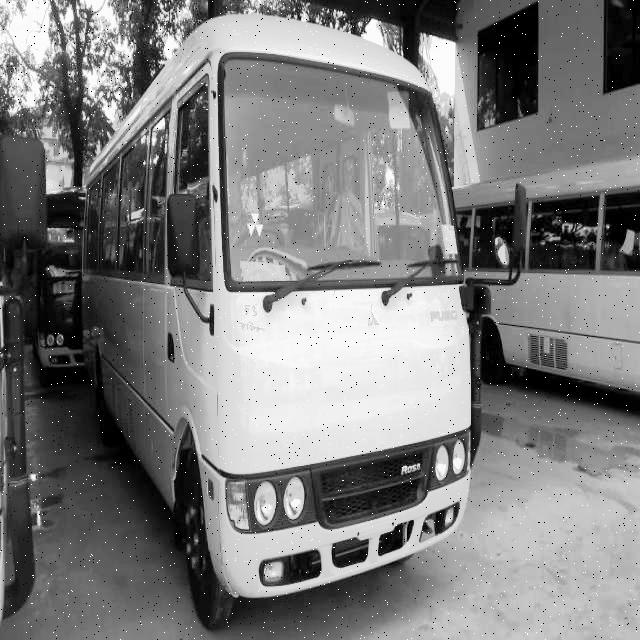Bus: (88, 0, 494, 640)
